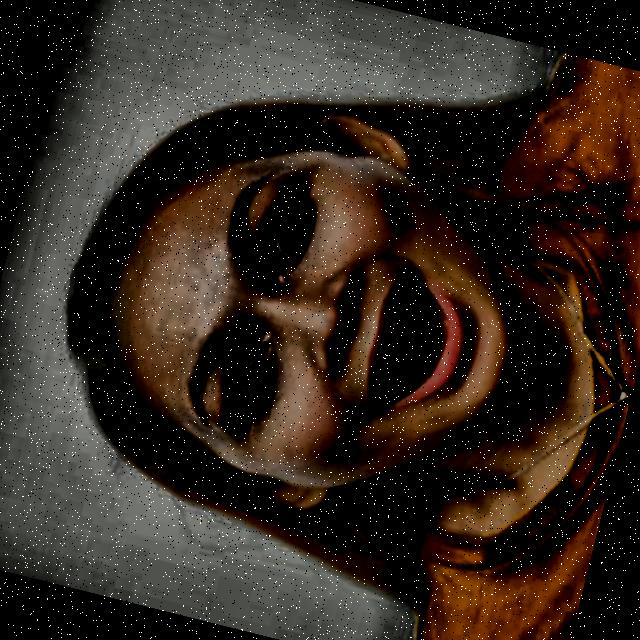surprised: (46, 81, 563, 577)
